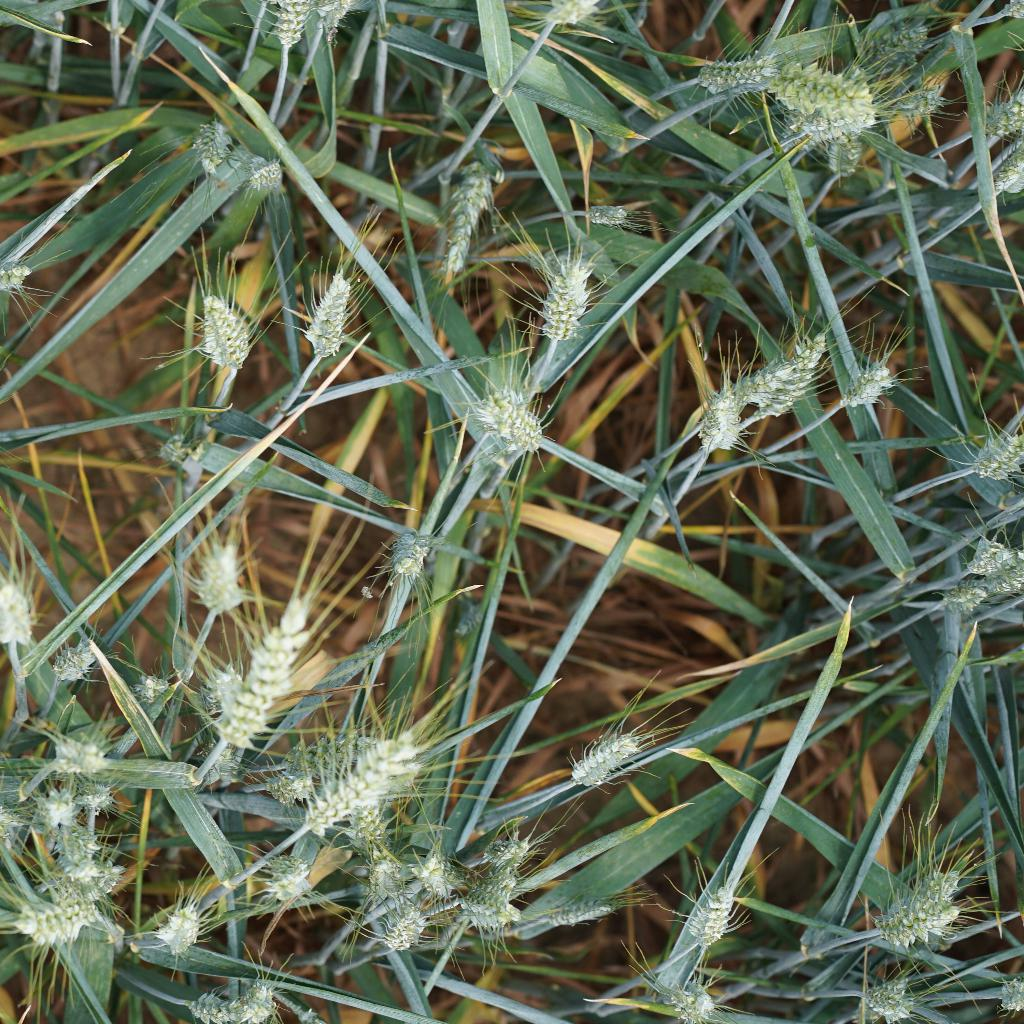0-0: (296, 705, 429, 841), (206, 605, 307, 746), (176, 531, 261, 623), (302, 257, 366, 372), (447, 148, 499, 280), (197, 277, 258, 389), (530, 238, 594, 343), (43, 819, 127, 896), (750, 329, 828, 410), (8, 886, 106, 949), (681, 871, 754, 955), (187, 968, 292, 1024), (479, 389, 557, 463), (953, 411, 1024, 488), (763, 52, 862, 107), (574, 731, 651, 799), (692, 37, 770, 98), (257, 832, 314, 914), (467, 863, 530, 937), (885, 884, 960, 946), (646, 965, 724, 1024), (866, 8, 944, 63), (0, 568, 43, 662), (792, 96, 881, 141), (548, 884, 620, 938), (377, 514, 432, 583), (41, 721, 107, 777), (944, 571, 1024, 616), (533, 0, 608, 48), (878, 77, 950, 127), (858, 964, 916, 1024), (187, 109, 238, 175), (34, 631, 101, 680), (703, 385, 751, 453), (417, 847, 471, 907), (475, 815, 533, 870), (359, 852, 414, 909), (960, 529, 1024, 577), (159, 903, 212, 960), (979, 137, 1024, 203), (144, 426, 202, 475), (245, 157, 303, 205), (271, 0, 317, 60), (191, 653, 239, 709), (268, 744, 310, 808), (578, 192, 646, 231), (381, 901, 426, 959), (982, 83, 1024, 144), (844, 363, 894, 414), (317, 0, 373, 44), (0, 252, 41, 304), (351, 803, 392, 854), (37, 770, 86, 810), (829, 135, 874, 176), (128, 668, 174, 705), (73, 774, 120, 807)
